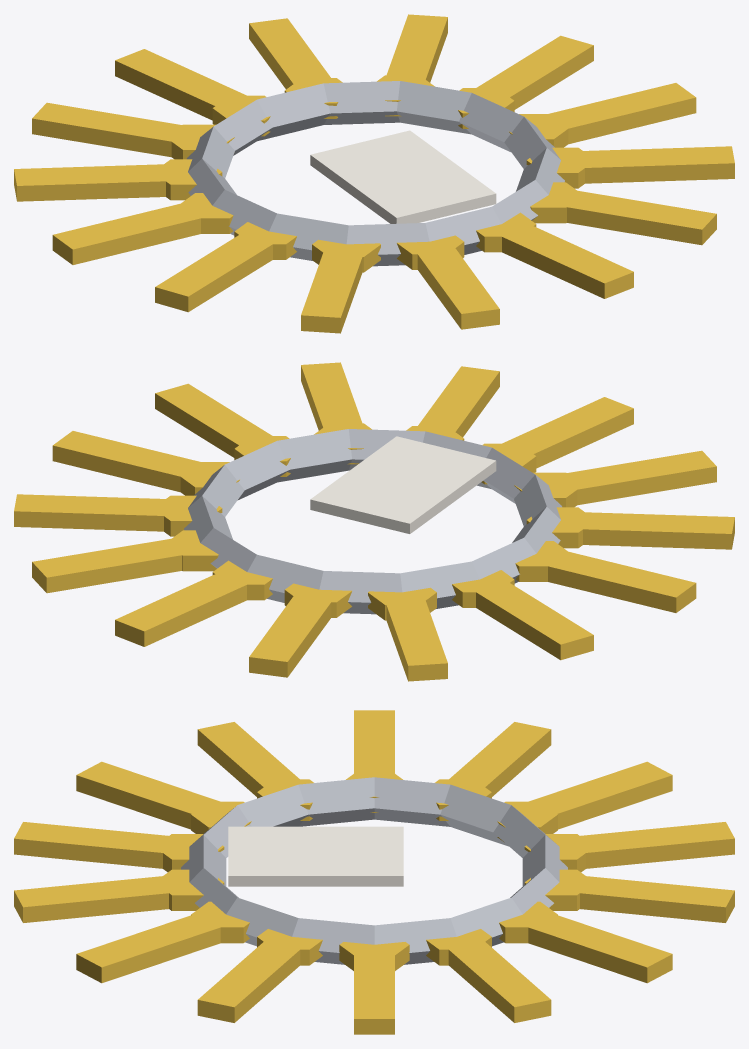
The model's file is master_key_ring.glb.
3 renders of one model, top to bottom at view 1: azimuth 30°, elevation 25°; view 2: azimuth 150°, elevation 25°; view 3: azimuth 270°, elevation 25°, orthographic.
Visible parts, largest first — view 1: keys_key_brass, ring_ring_steel, tag_tag_paper; view 2: keys_key_brass, ring_ring_steel, tag_tag_paper; view 3: keys_key_brass, ring_ring_steel, tag_tag_paper.
Part boxes in pixels (x1,y1,x2,y2): keys_key_brass: [14, 14, 734, 333]; ring_ring_steel: [187, 81, 564, 266]; tag_tag_paper: [310, 130, 496, 223]; keys_key_brass: [14, 362, 734, 681]; ring_ring_steel: [184, 429, 561, 614]; tag_tag_paper: [310, 436, 496, 533]; keys_key_brass: [14, 710, 734, 1034]; ring_ring_steel: [181, 777, 567, 964]; tag_tag_paper: [228, 826, 403, 886].
Bounding box in the file's own units: 0.25 × 0.016 × 0.2468.
